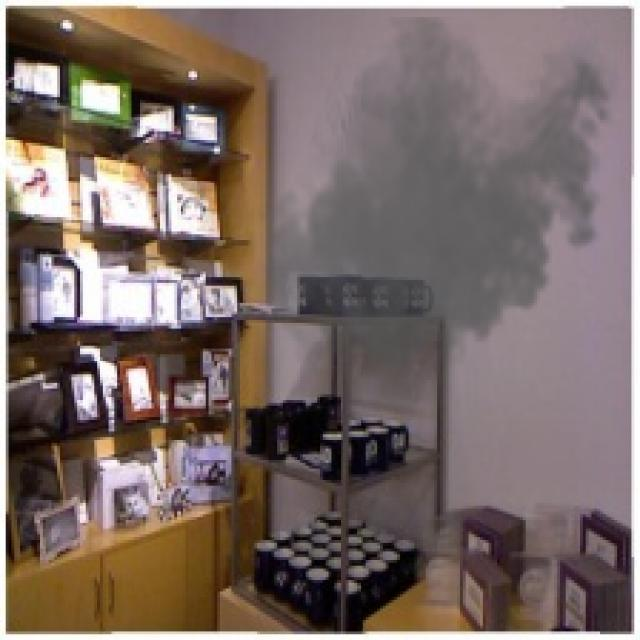Smoke: (257, 17, 623, 397)
